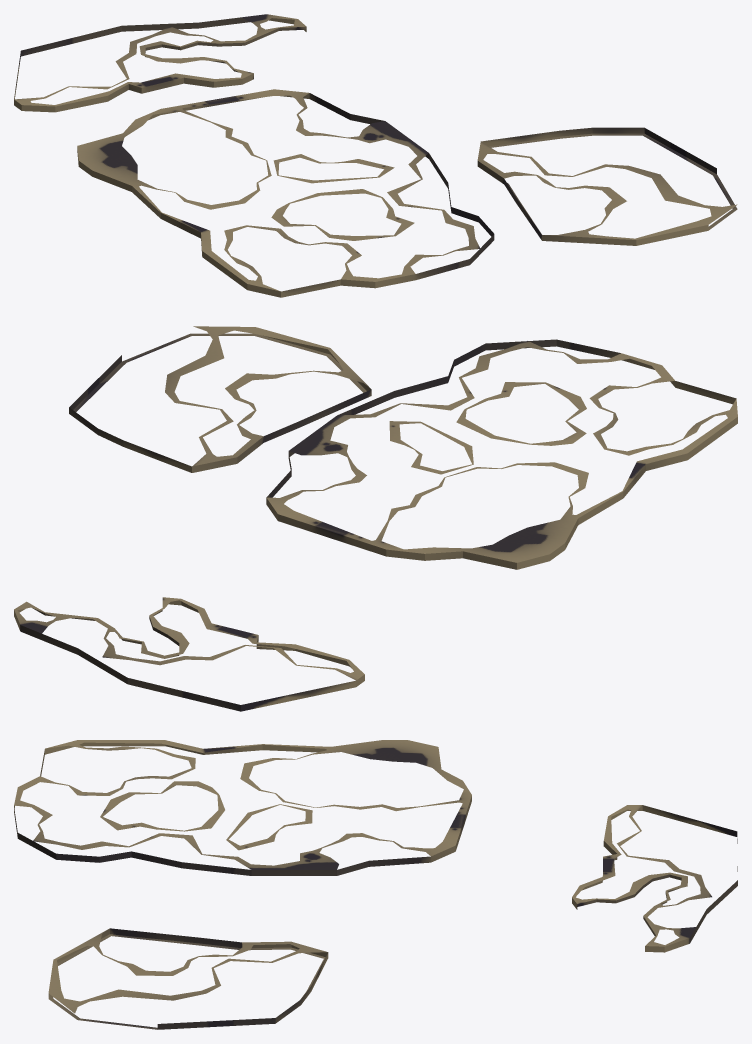
The model's file is Ground_01.FBX.
3 views of the same model, one above another, from view 1: azimuth 30°, elevation 25°; view 2: azimuth 150°, elevation 25°; view 3: azimuth 270°, elevation 25° (orthographic). The views are drawn at different scales.
Parts seen in each view (by area): view 1: Ground_01; view 2: Ground_01; view 3: Ground_01.
Part boxes in pixels (x1,y1,x2,y2): Ground_01: [14, 14, 737, 297]; Ground_01: [14, 326, 737, 711]; Ground_01: [14, 740, 737, 1029].
Size of the model in its own units: 35.93 by 3.05 by 44.85.
